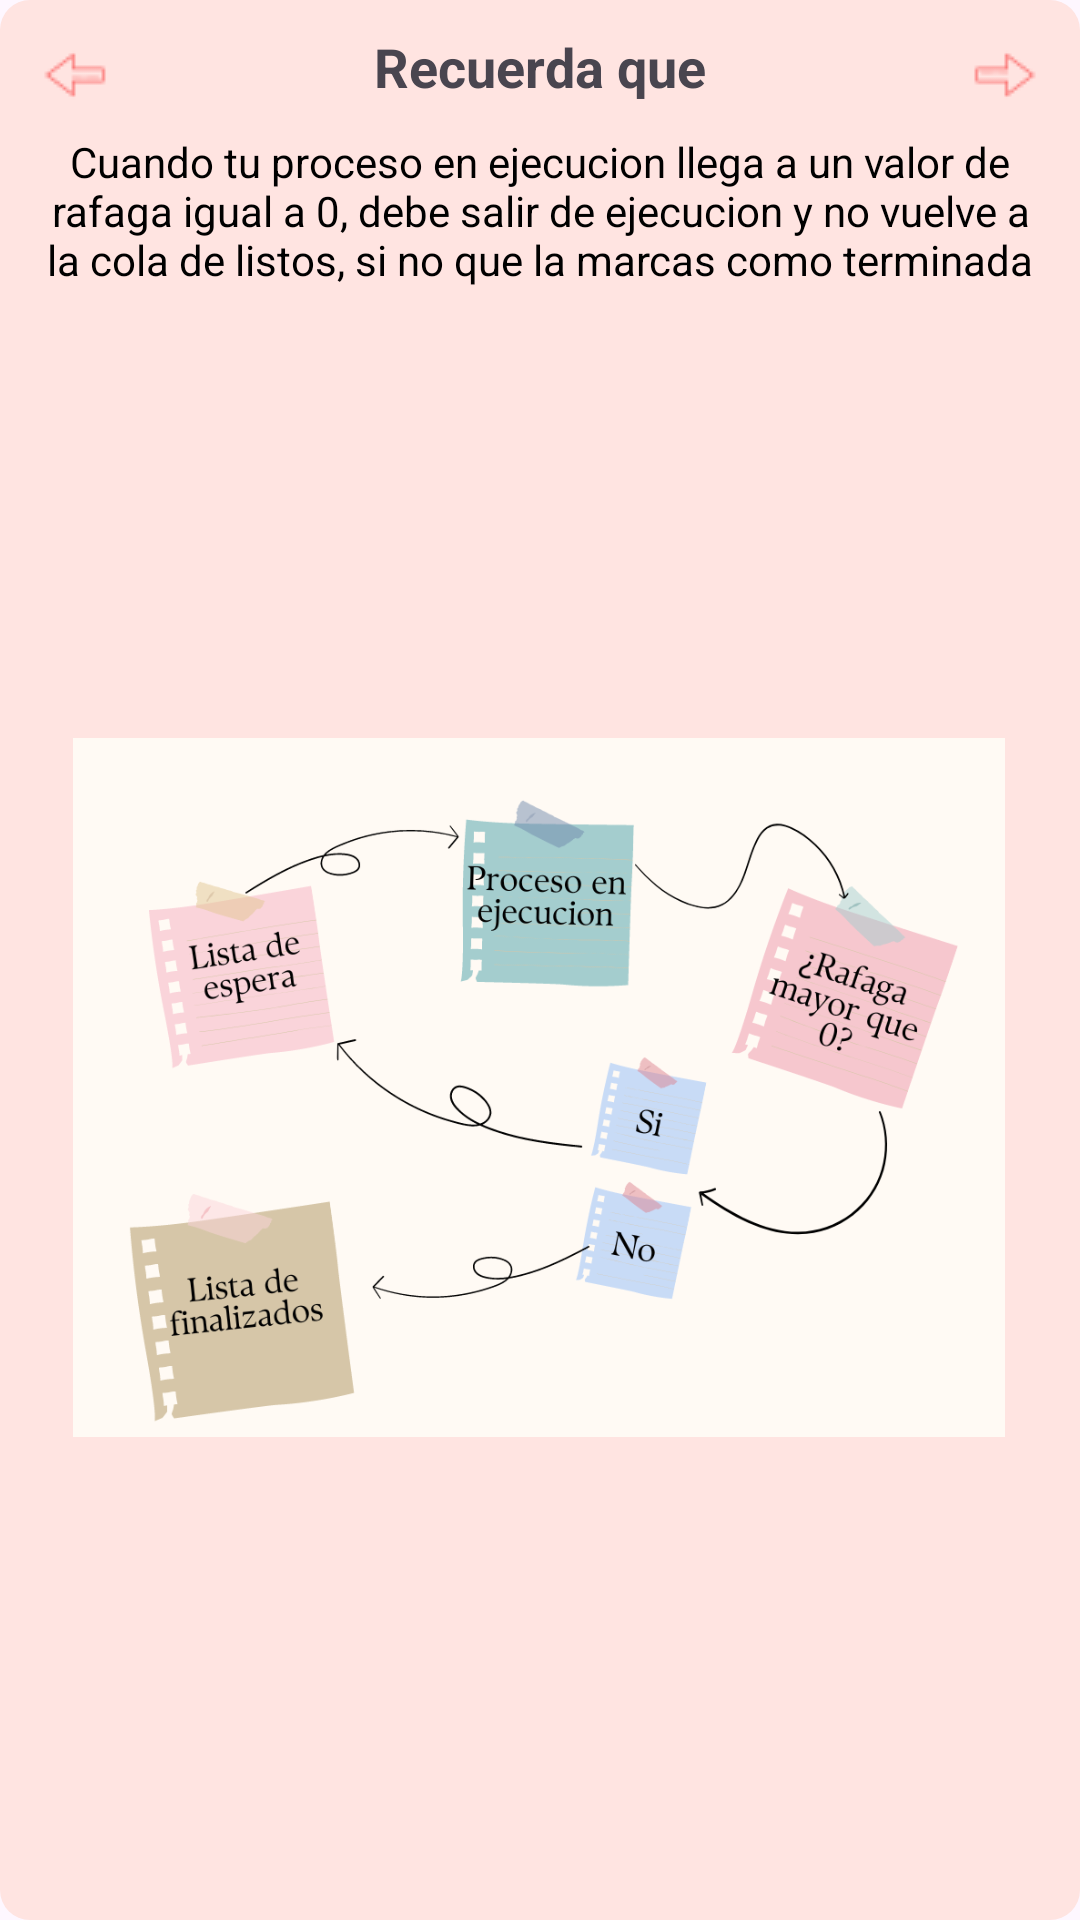

Locate icon controls on the screen. Image size 1080x1920, boxes as (x1=x1, y1=y1, x2=x2, y2=y2).
flecha adelante: (x1=974, y1=53, x2=1035, y2=97)
flecha atras: (x1=45, y1=53, x2=106, y2=97)
